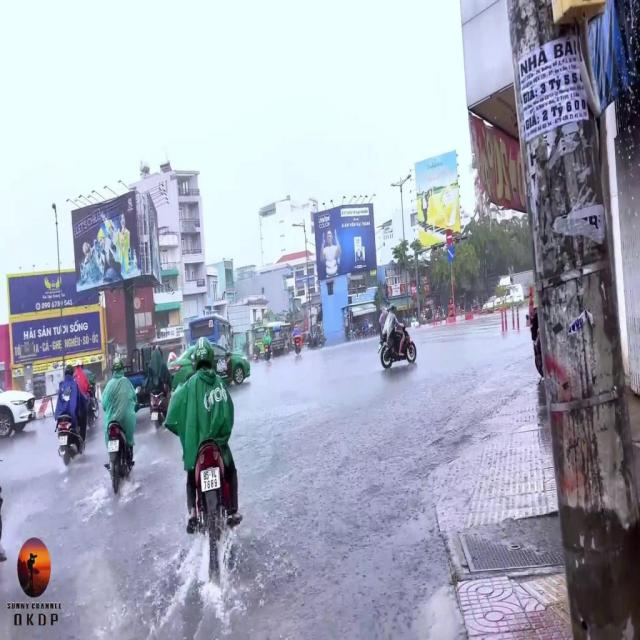cam_xe_di_nguoc_chieu: (446, 229, 452, 244)
huong_phai_di_vuot_chuong_ngai_vat_phai: (447, 246, 454, 260)
